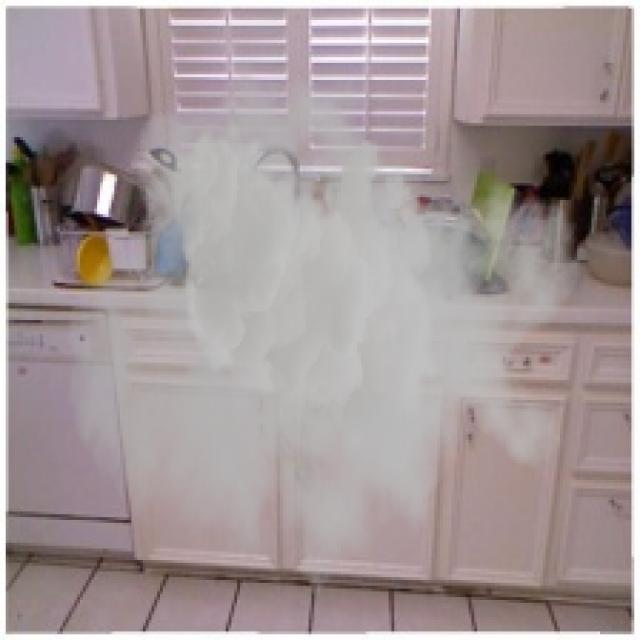smoke: (66, 57, 583, 623)
